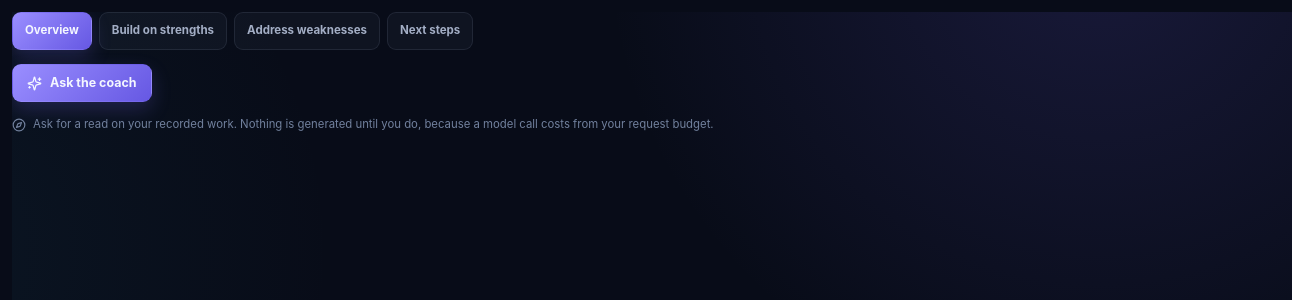
Test: MentorPanel › asks the coach and renders the fallback text with its reason
Click the button "Ask the coach".
click(82, 83)  # box [12,64,152,102]
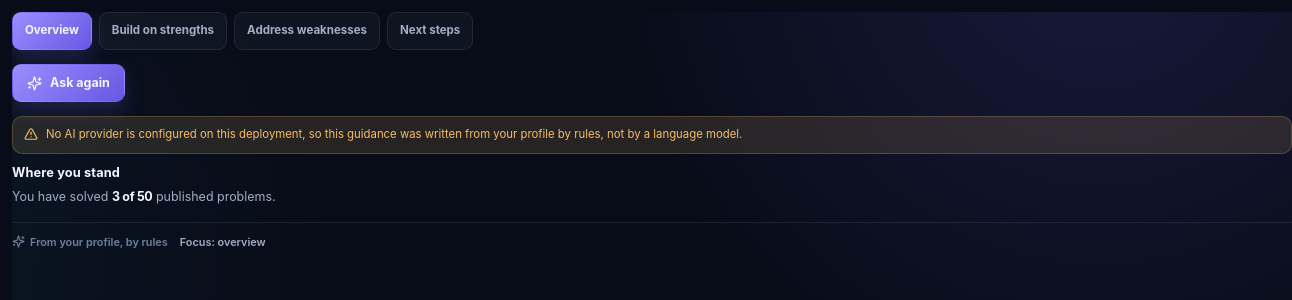
Check: the text "You have solved 3 of 50 published problems." is shown, box [12,189,276,204]
Check: the text "written from your profile by rules" is shown, box [46,127,742,141]
Check: the text "Focus: overview" is shown, box [180,234,266,250]
